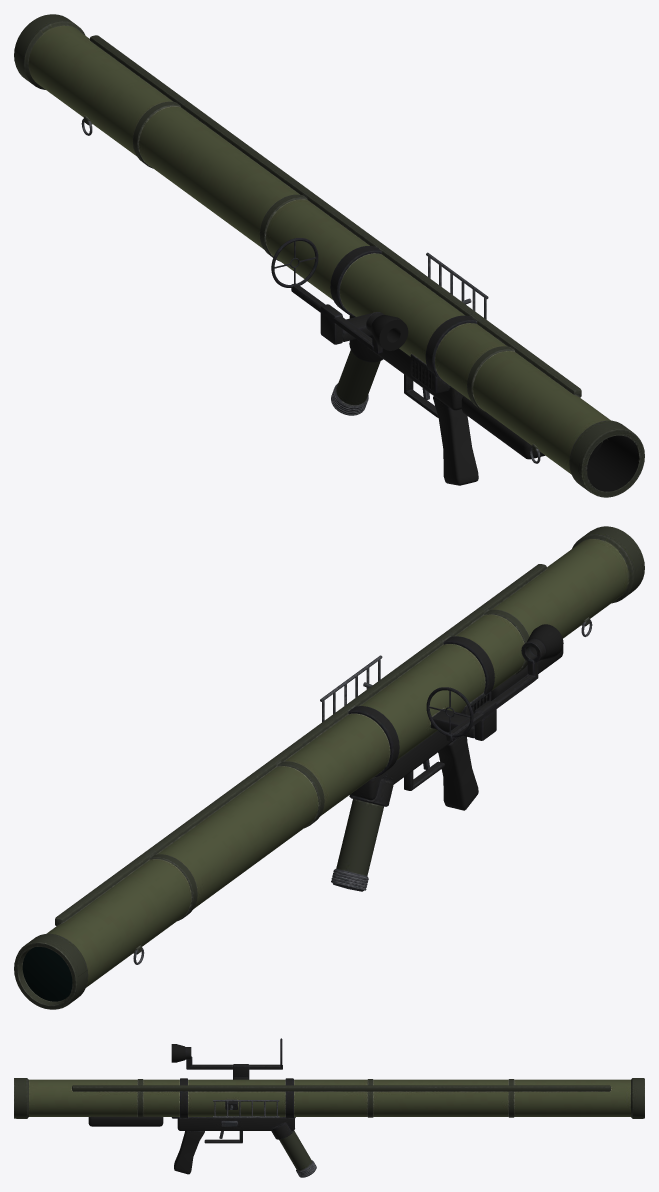
Rendered from aa_launcher.glb.
The picture shows the model from 3 angles, top to bottom: view 1: azimuth 30°, elevation 25°; view 2: azimuth 150°, elevation 25°; view 3: azimuth 270°, elevation 25°; orthographic projection. The views are drawn at different scales.
Visible parts, largest first — view 1: AALauncher; view 2: AALauncher; view 3: AALauncher.
Part boxes in pixels (x1,y1,x2,y2): AALauncher: (14,14,644,497); AALauncher: (14,526,644,1009); AALauncher: (14,1038,644,1177).
Bounding box in the file's own units: 0.2404 × 0.3072 × 1.52.
1 material, 1 textured.
